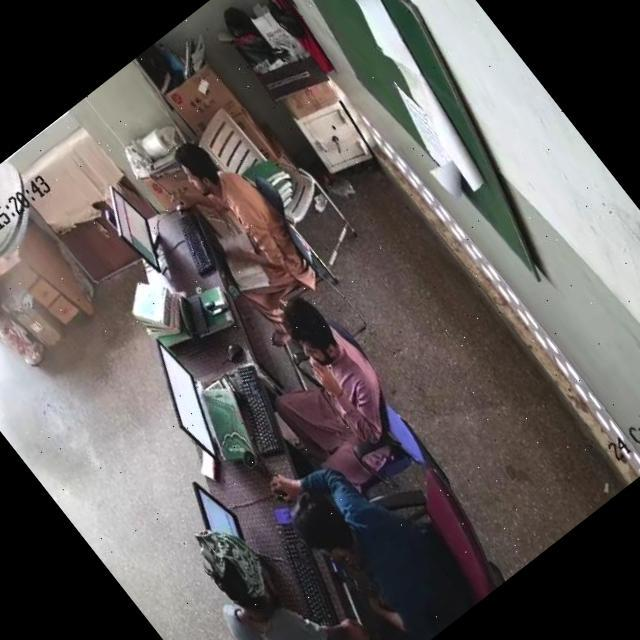person: (267, 439, 471, 640), (230, 281, 419, 483), (154, 122, 306, 294), (176, 511, 365, 640)
